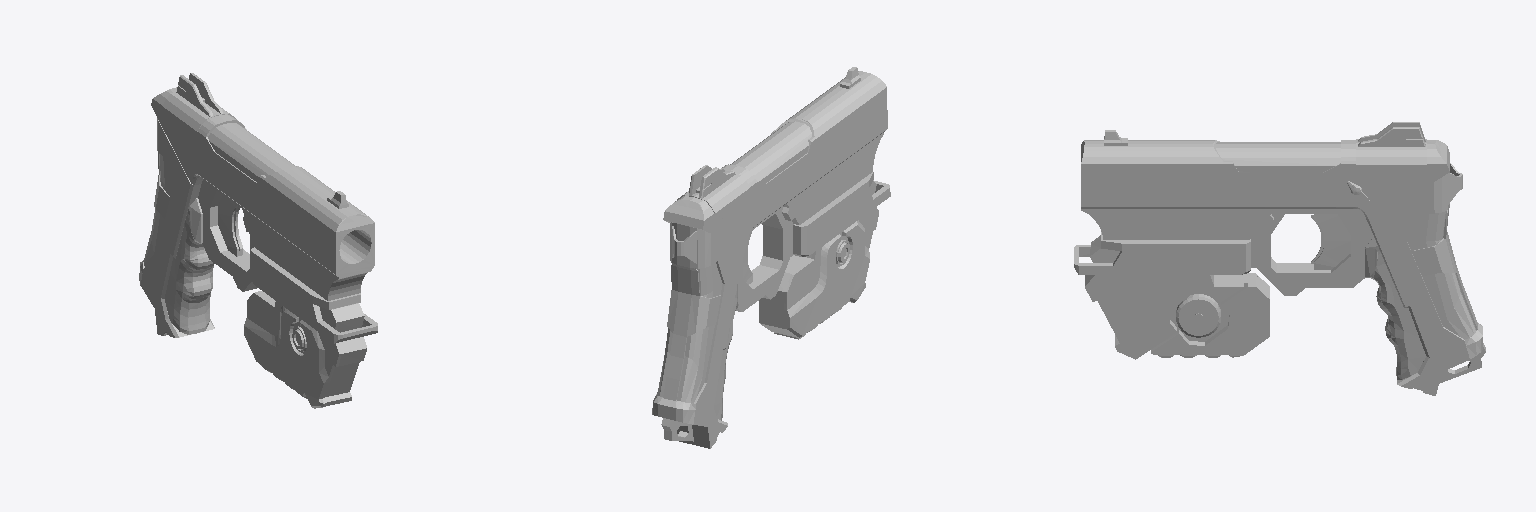
Rendered from uploads_files_3874964_Plasmagun.obj.
3 views of the same model, side by side, from view 1: azimuth 30°, elevation 25°; view 2: azimuth 150°, elevation 25°; view 3: azimuth 270°, elevation 25° (orthographic).
Visible parts, largest first — view 1: plasmagun, battery, trigger; view 2: plasmagun, battery; view 3: plasmagun, battery, trigger, plasmaammo.
Part boxes in pixels (bbox=[...]): plasmagun: bbox=[139, 73, 377, 343]; battery: bbox=[244, 291, 366, 408]; trigger: bbox=[218, 195, 242, 256]; plasmagun: bbox=[652, 67, 890, 448]; battery: bbox=[759, 181, 878, 339]; plasmagun: bbox=[1074, 122, 1485, 395]; battery: bbox=[1085, 235, 1269, 359]; trigger: bbox=[1311, 214, 1350, 269]; plasmaammo: bbox=[1176, 294, 1220, 337].
Bounding box in the file's own units: 2.97 × 16.84 × 24.01.